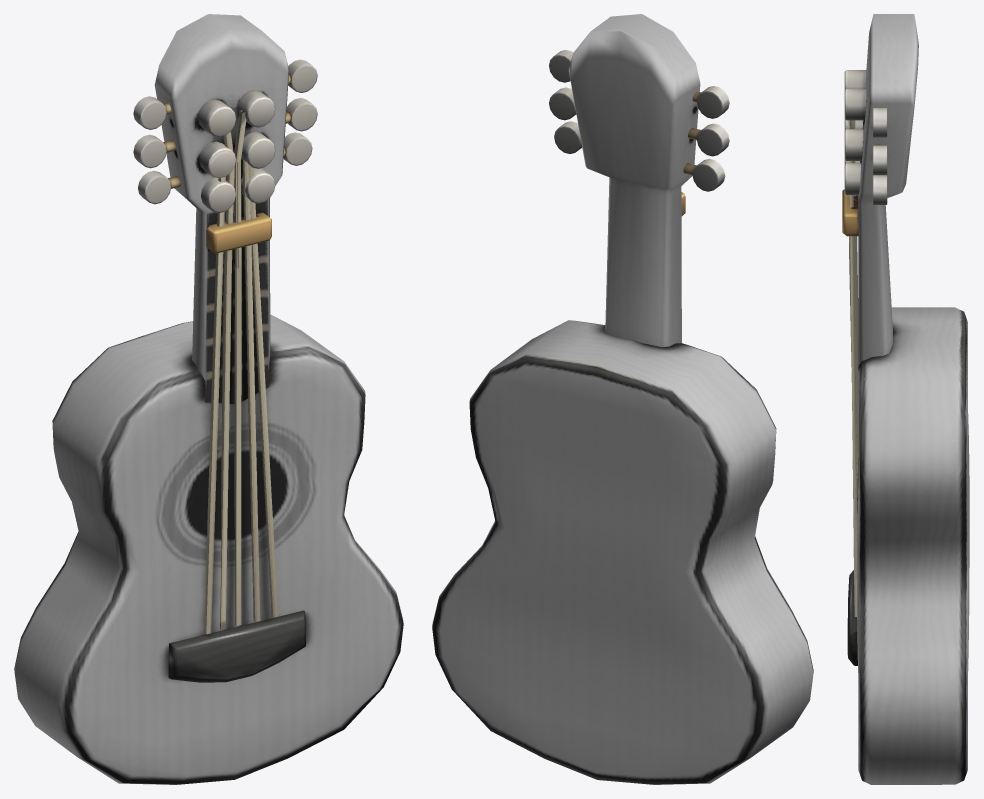
File: guitar.fbx
3 renders of one model, left to right at view 1: azimuth 30°, elevation 25°; view 2: azimuth 150°, elevation 25°; view 3: azimuth 270°, elevation 25°, orthographic. The views are drawn at different scales.
Parts seen in each view (by area): view 1: guitar; view 2: guitar; view 3: guitar.
Boxes of the visible parts, bbox=[...] form: guitar: bbox=[14, 14, 403, 784]; guitar: bbox=[432, 14, 813, 784]; guitar: bbox=[842, 14, 969, 784].
Size of the model in its own units: 48.91 by 101 by 15.86.
